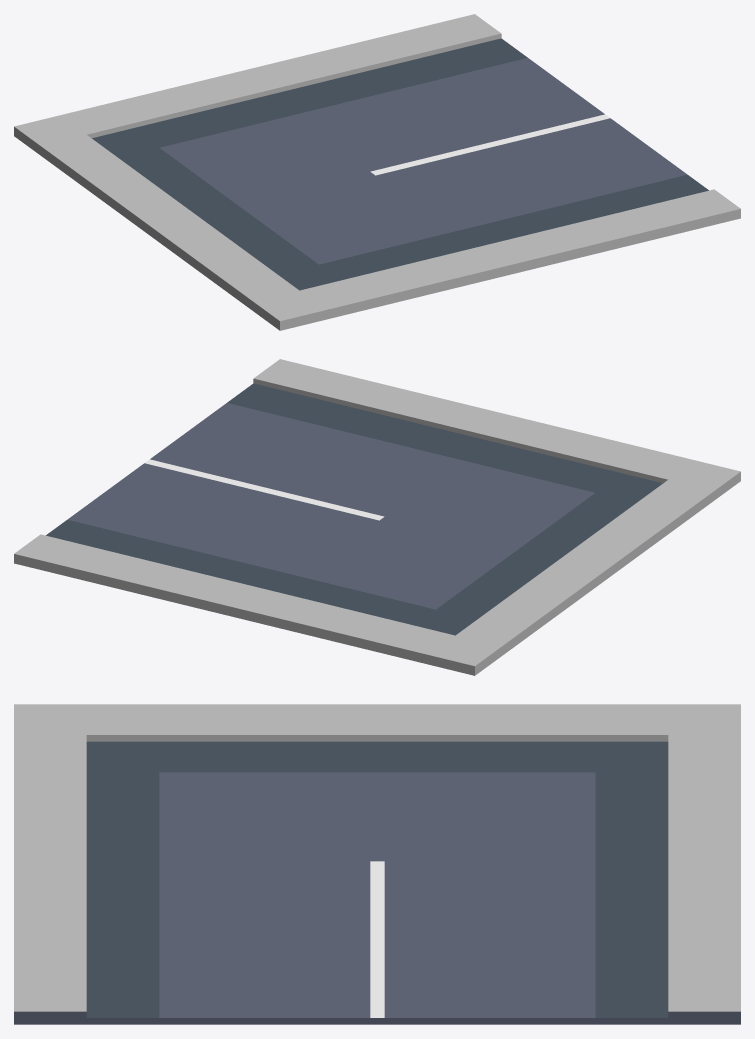
Rendered from SM_Road_End.fbx.
The picture shows the model from 3 angles, top to bottom: view 1: azimuth 30°, elevation 25°; view 2: azimuth 150°, elevation 25°; view 3: azimuth 270°, elevation 25°; orthographic projection. The views are drawn at different scales.
Visible parts, largest first — view 1: SM_Road_End; view 2: SM_Road_End; view 3: SM_Road_End.
Boxes of the visible parts, x1=… form: SM_Road_End: x1=14, y1=14, x2=740, y2=330; SM_Road_End: x1=14, y1=359, x2=740, y2=675; SM_Road_End: x1=14, y1=704, x2=740, y2=1024.
Size of the model in its own units: 1000 by 20 by 1000.
